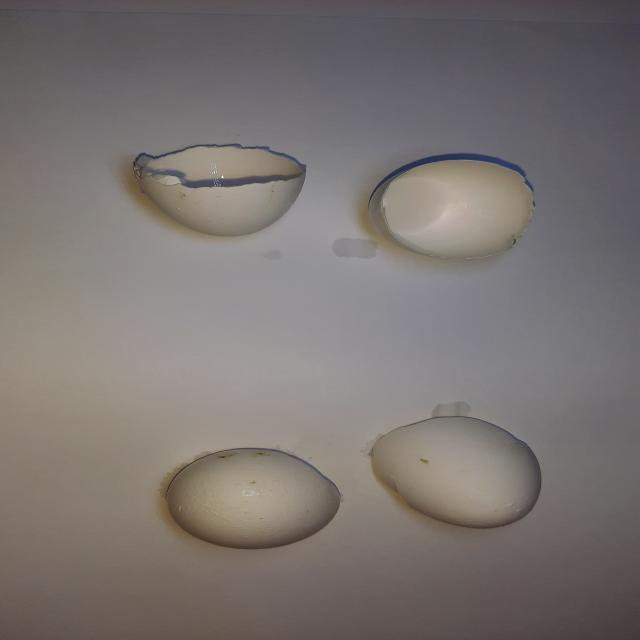egg shell: (366, 414, 547, 531), (162, 446, 345, 551), (364, 156, 541, 262), (128, 143, 310, 240)
